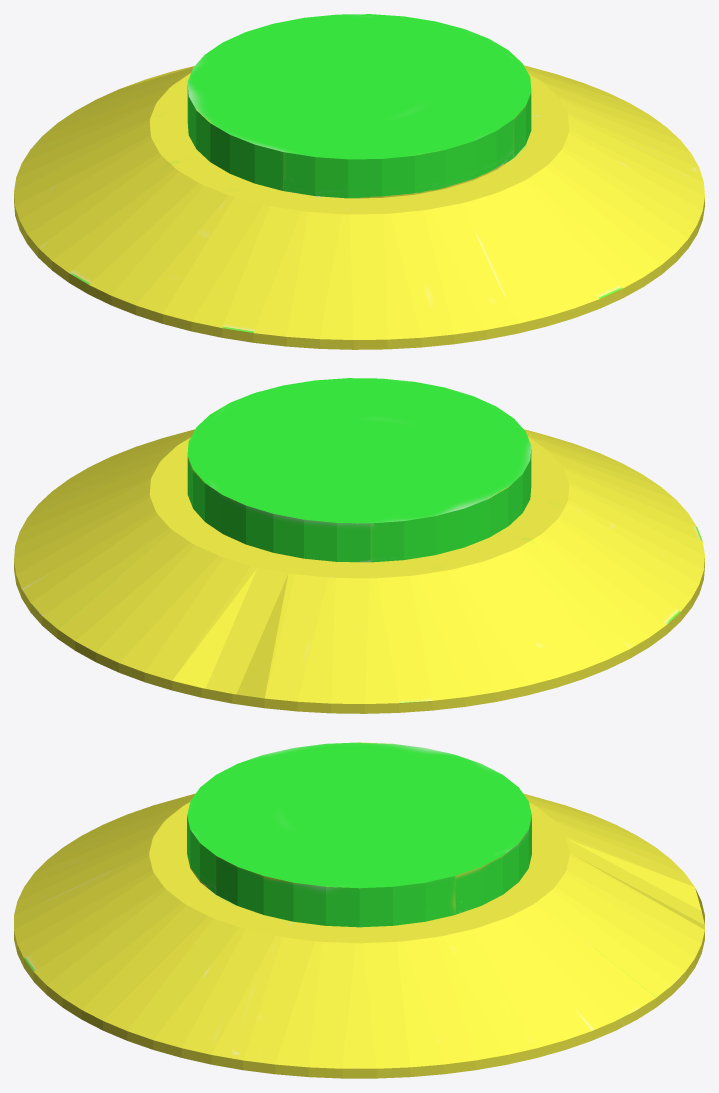
File: goal.obj
3 views of the same model, one above another, from view 1: azimuth 30°, elevation 25°; view 2: azimuth 150°, elevation 25°; view 3: azimuth 270°, elevation 25° (orthographic).
Parts seen in each view (by area): view 1: 円柱.001; view 2: 円柱.001; view 3: 円柱.001.
Part boxes in pixels (box(x1,y1,x2,y2)): 円柱.001: box(14, 14, 704, 349); 円柱.001: box(14, 378, 704, 713); 円柱.001: box(14, 742, 704, 1078).
Size of the model in its own units: 4.01 by 0.75 by 4.01.
1 material, 1 textured.
